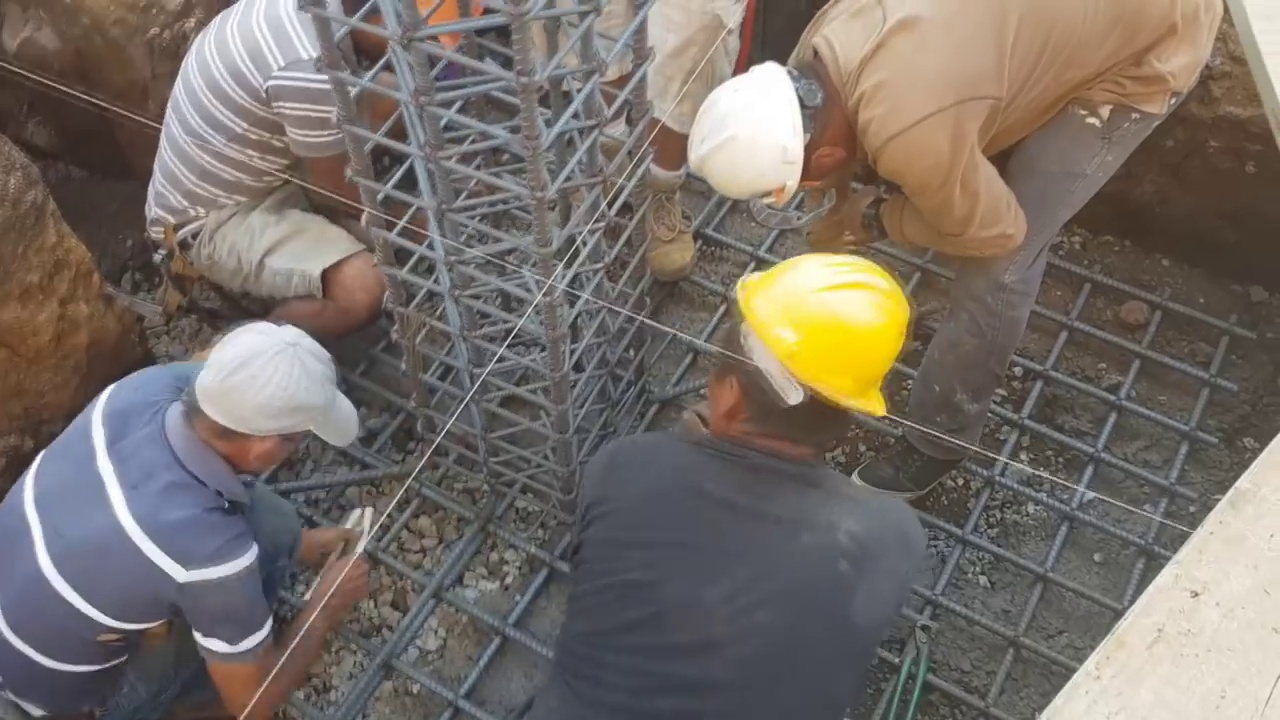helmet: (735, 257, 907, 428), (688, 59, 807, 204), (398, 4, 466, 44)
helmet-off: (182, 322, 365, 485)
helmet-on: (692, 254, 910, 465), (687, 44, 867, 215), (333, 4, 484, 72)
person: (686, 4, 1238, 518), (533, 248, 941, 718), (7, 315, 373, 713), (151, 6, 478, 334)
